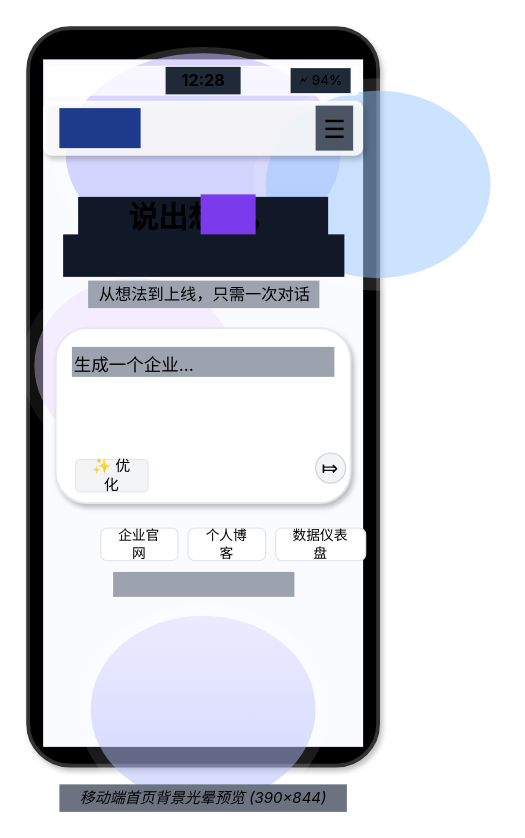
The diagram is 525 pixels wide and 838 high, and some of its shapes have lost their labels. The shapes that lost their labels are listed below. From the top down, each one's centre as x and y in pixels, then its label:
the point at 99,128: 🚀 易搭
the point at 227,217: AI
the point at 203,255: 即刻生成应用
the point at 203,583: 按 Enter 发送 · Shift+Enter 换行
